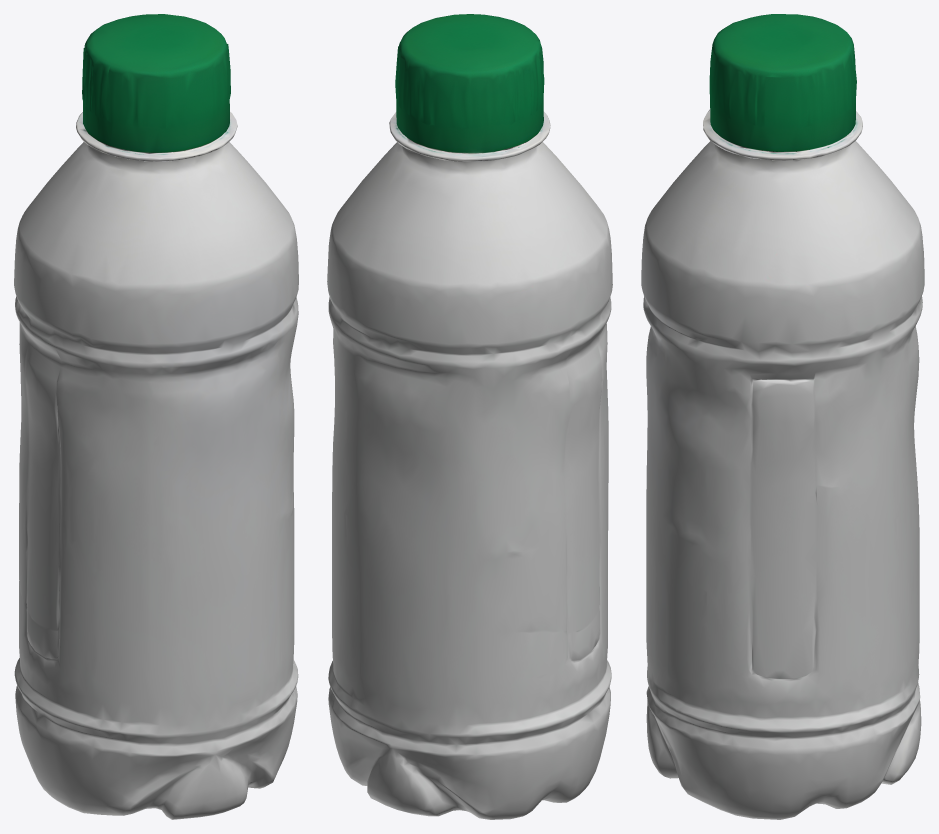
Rendered from level0-almond-bottle.glb.
The picture shows the model from 3 angles, left to right: view 1: azimuth 30°, elevation 25°; view 2: azimuth 150°, elevation 25°; view 3: azimuth 270°, elevation 25°; orthographic projection.
Parts seen in each view (by area): view 1: tripo_node_20e45b80-9585-48aa-8f61-82f09710749a; view 2: tripo_node_20e45b80-9585-48aa-8f61-82f09710749a; view 3: tripo_node_20e45b80-9585-48aa-8f61-82f09710749a.
Boxes of the visible parts, x1=… form: tripo_node_20e45b80-9585-48aa-8f61-82f09710749a: x1=14, y1=14, x2=298, y2=819; tripo_node_20e45b80-9585-48aa-8f61-82f09710749a: x1=327, y1=14, x2=612, y2=819; tripo_node_20e45b80-9585-48aa-8f61-82f09710749a: x1=641, y1=14, x2=924, y2=819.
Bounding box in the file's own units: 0.3492 × 0.9998 × 0.3492.
Materials: 1 (1 with a texture image).
